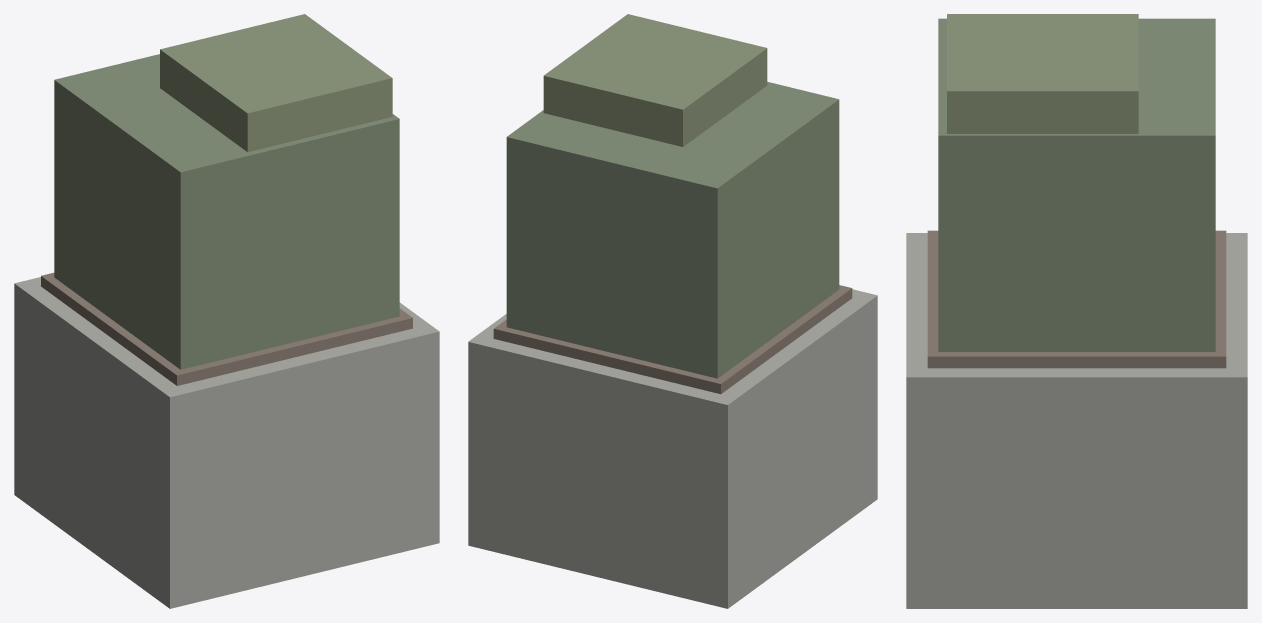
Rendered from planter.glb.
3 views of the same model, side by side, from view 1: azimuth 30°, elevation 25°; view 2: azimuth 150°, elevation 25°; view 3: azimuth 270°, elevation 25° (orthographic). The views are drawn at different scales.
Visible parts, largest first — view 1: body; view 2: body; view 3: body.
Part boxes in pixels (box(x1,y1,x2,y2)): body: box(14, 14, 439, 608); body: box(468, 14, 877, 608); body: box(906, 14, 1247, 608).
Bounding box in the file's own units: 0.8 × 1.3 × 0.8.
